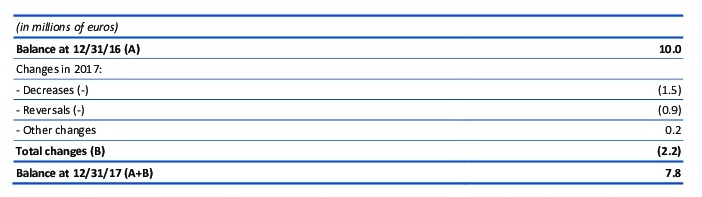table: (0, 0, 702, 197)
